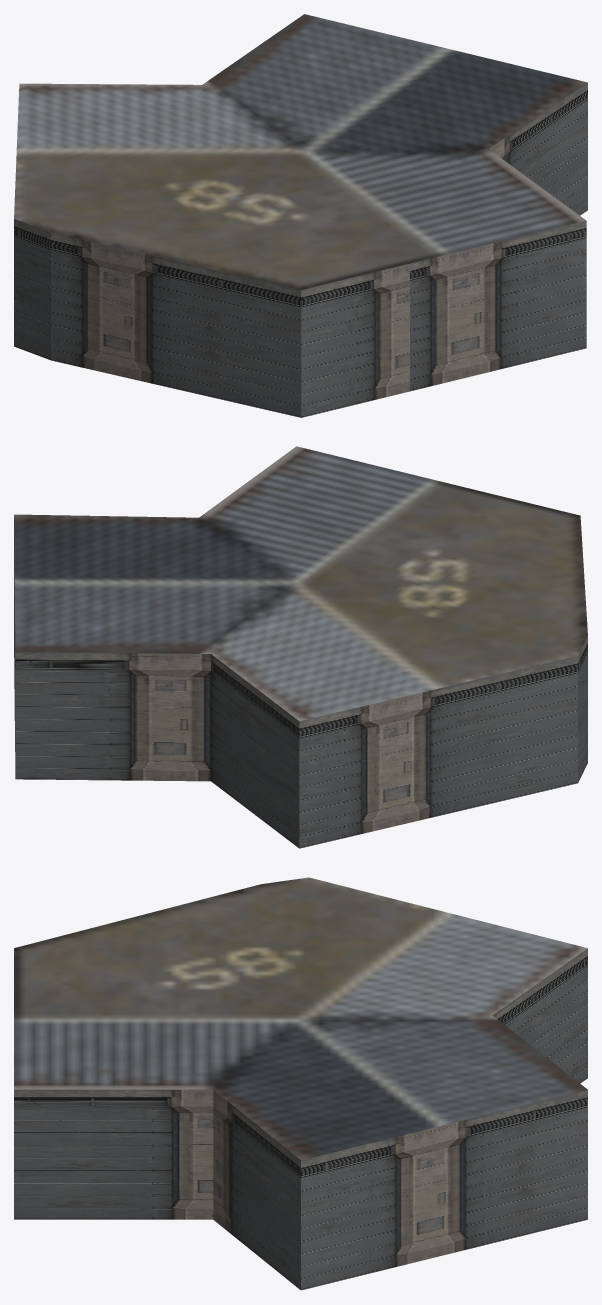
File: hangar_light_58.glb
The picture shows the model from 3 angles, top to bottom: view 1: azimuth 30°, elevation 25°; view 2: azimuth 150°, elevation 25°; view 3: azimuth 270°, elevation 25°; orthographic projection. The views are drawn at different scales.
Parts seen in each view (by area): view 1: buildings/saxarba/hangar_light/hangar_light_58; view 2: buildings/saxarba/hangar_light/hangar_light_58; view 3: buildings/saxarba/hangar_light/hangar_light_58.
Boxes of the visible parts, left/top/right/bottom form: buildings/saxarba/hangar_light/hangar_light_58: left=14, top=14, right=587, bottom=417; buildings/saxarba/hangar_light/hangar_light_58: left=14, top=446, right=587, bottom=848; buildings/saxarba/hangar_light/hangar_light_58: left=14, top=877, right=587, bottom=1290.
Size of the model in its own units: 84 by 18 by 72.
